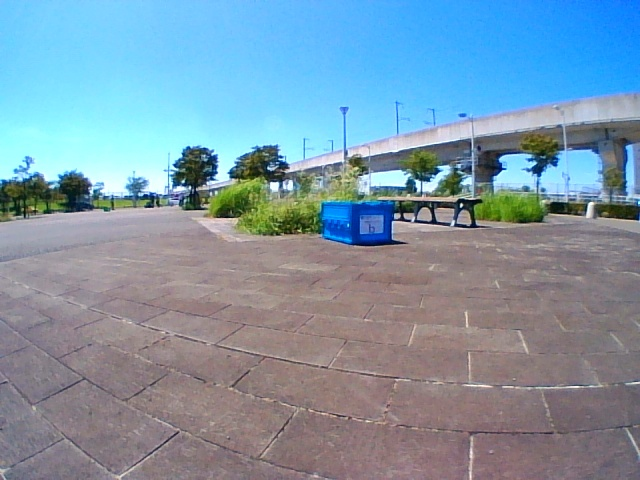blue_box: (323, 201, 392, 240)
tag_b: (360, 216, 382, 234)
